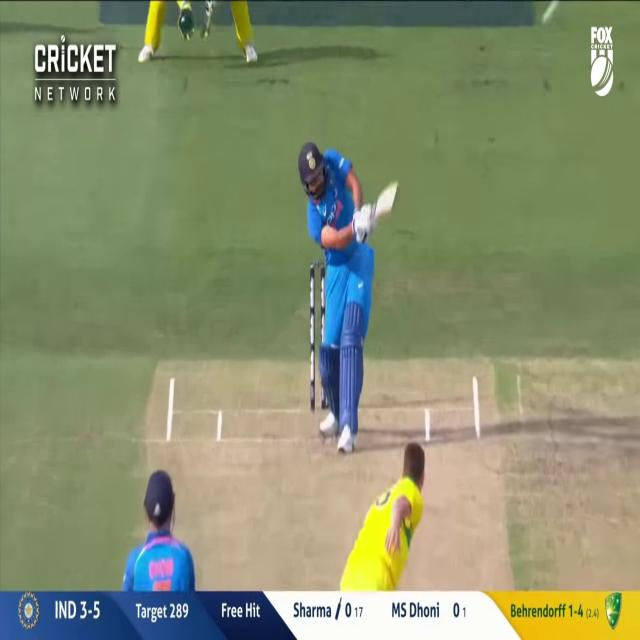ball: (538, 0, 560, 39)
stump: (310, 265, 327, 407)
